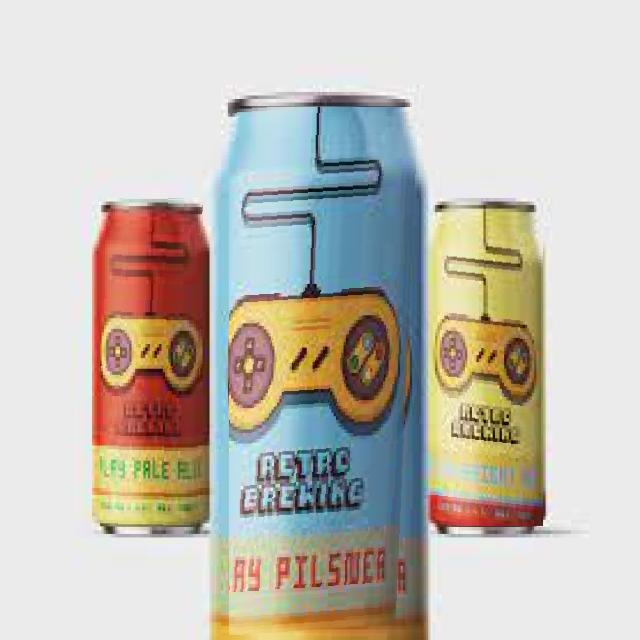Cans: (229, 107, 419, 637), (434, 213, 543, 526), (100, 197, 202, 526)
